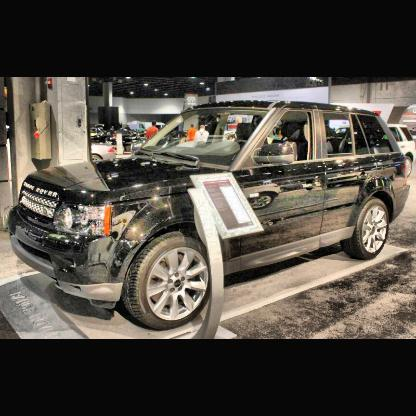Land Rover Range Rover SUV 2012: (7, 98, 411, 331)
